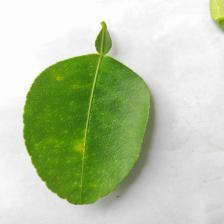greening: (17, 18, 155, 206)
